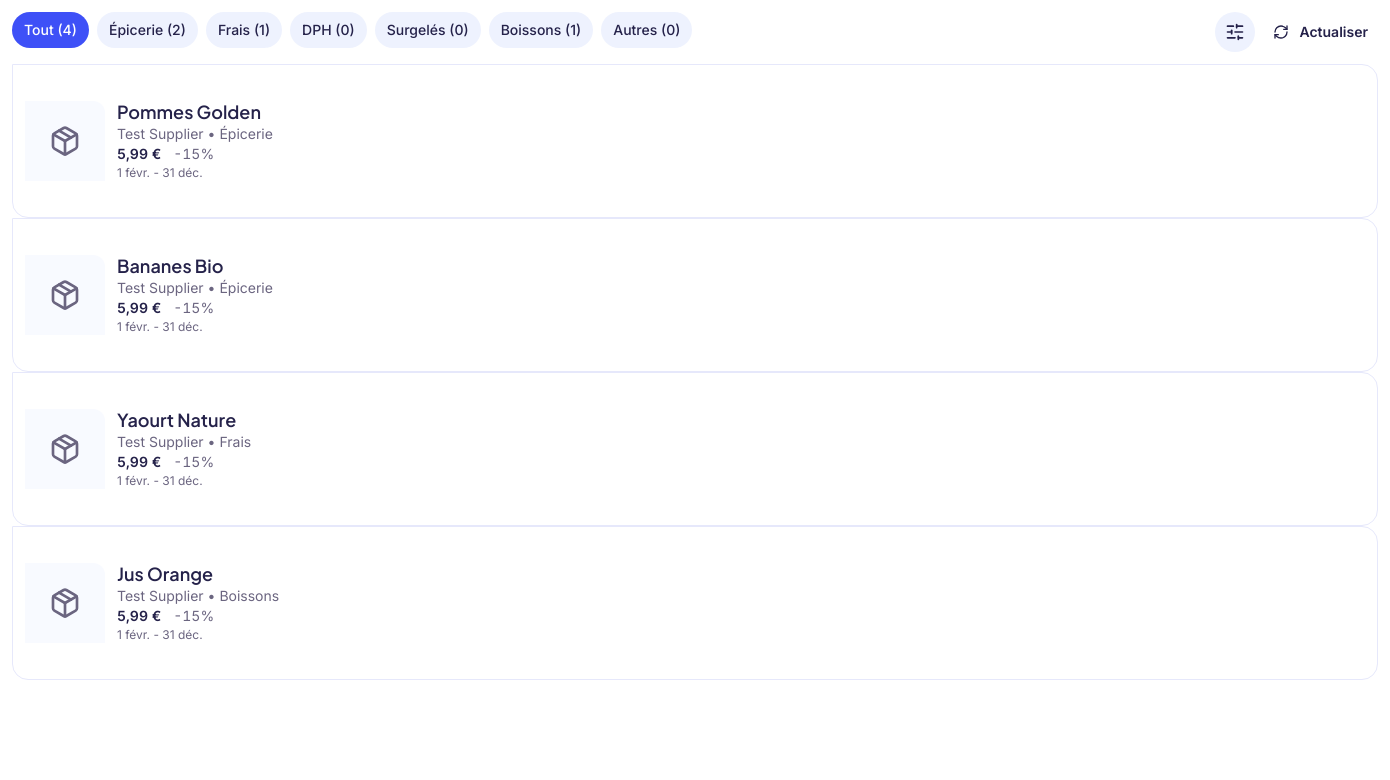
Scenario: StoreOfferList › empty state with advanced filters › shows category empty state when only category filter active
The width and height of the screenshot is (1390, 780).
Click the radio button "Surgelés (0)" at {"x": 428, "y": 30}, box left=375, top=12, right=481, bottom=48
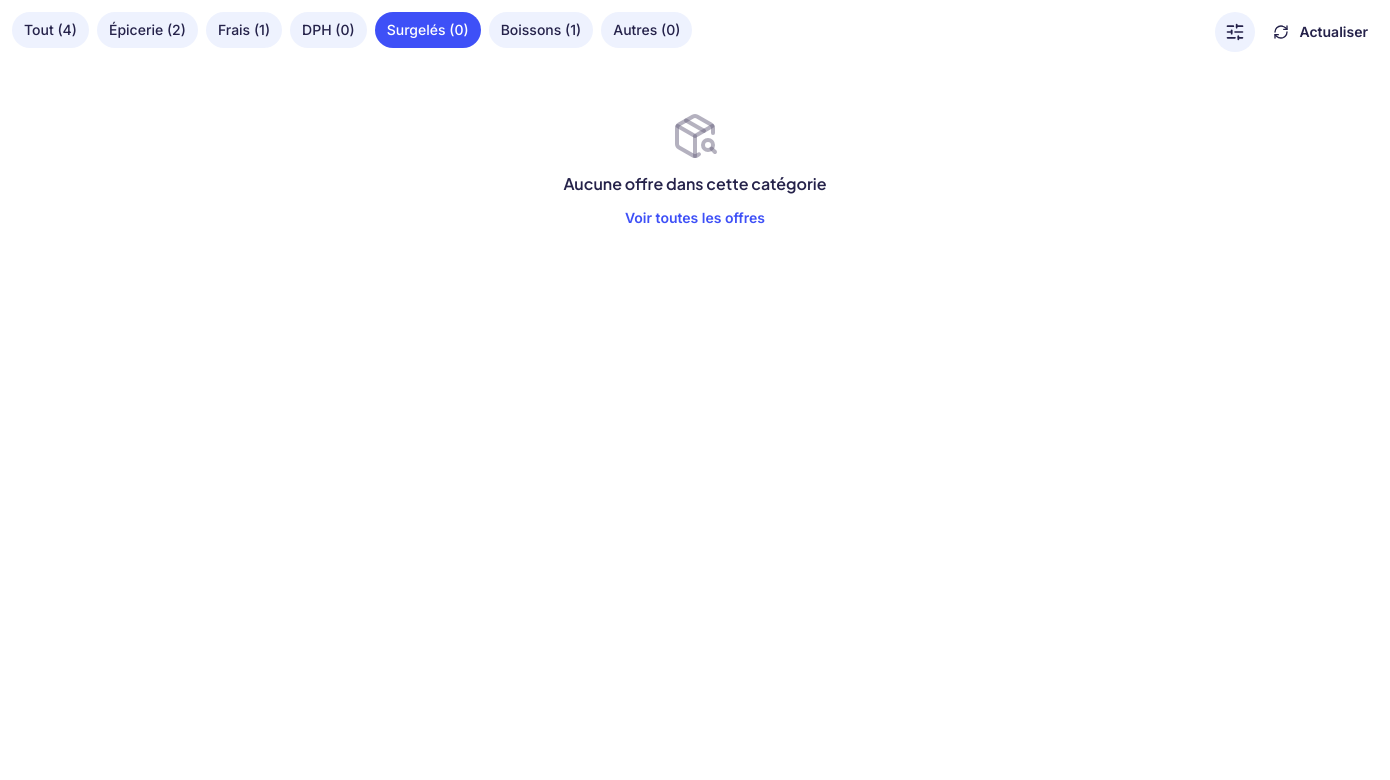
Now the text "Aucune offre dans cette catégorie" is shown, box left=564, top=172, right=827, bottom=196
Now the button "Voir toutes les offres" is shown, box left=609, top=200, right=781, bottom=236
